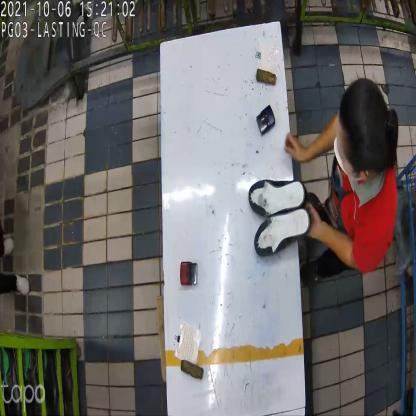shoes: (243, 177, 313, 261)
stamp: (257, 103, 276, 136), (180, 258, 198, 288)
